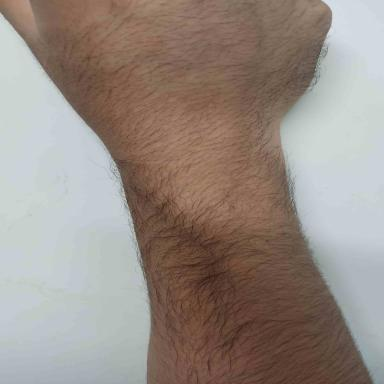normal skin: (1, 0, 372, 384)
